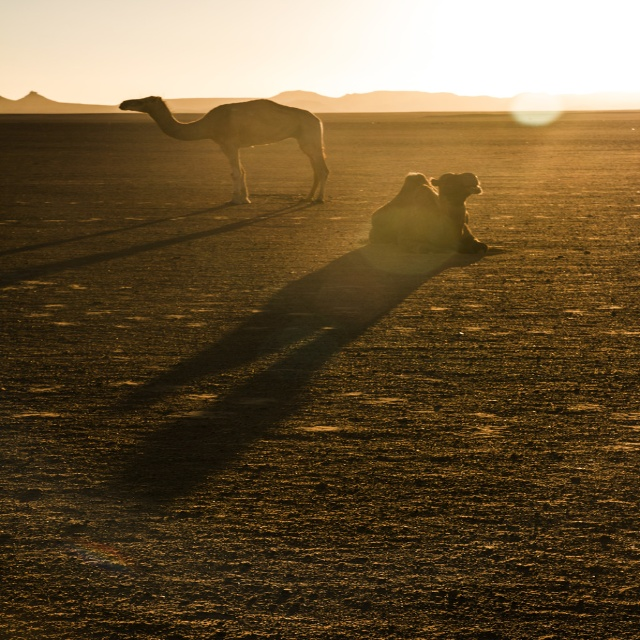Camel: (114, 94, 333, 202), (362, 168, 500, 257)
